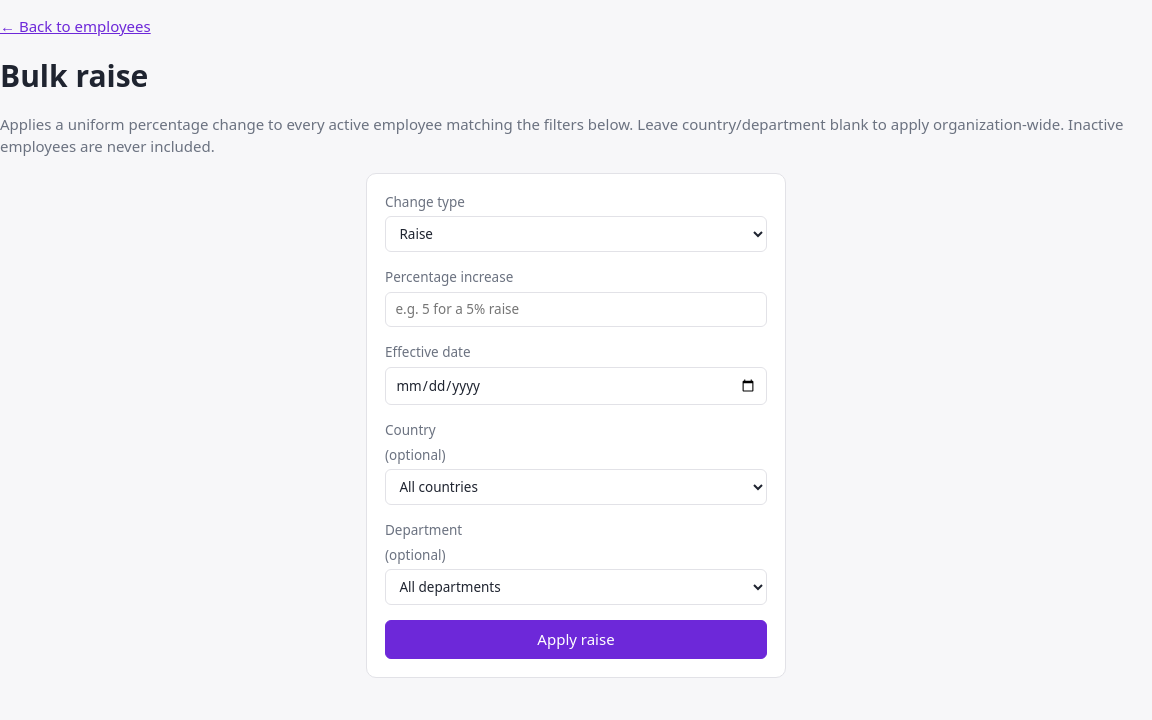
Test: BulkRaisePage › shows a confirm dialog naming the scope instead of applying immediately
Type "5" into the number field labelled "Percentage increase" at (576, 309), box [385,292,767,327]
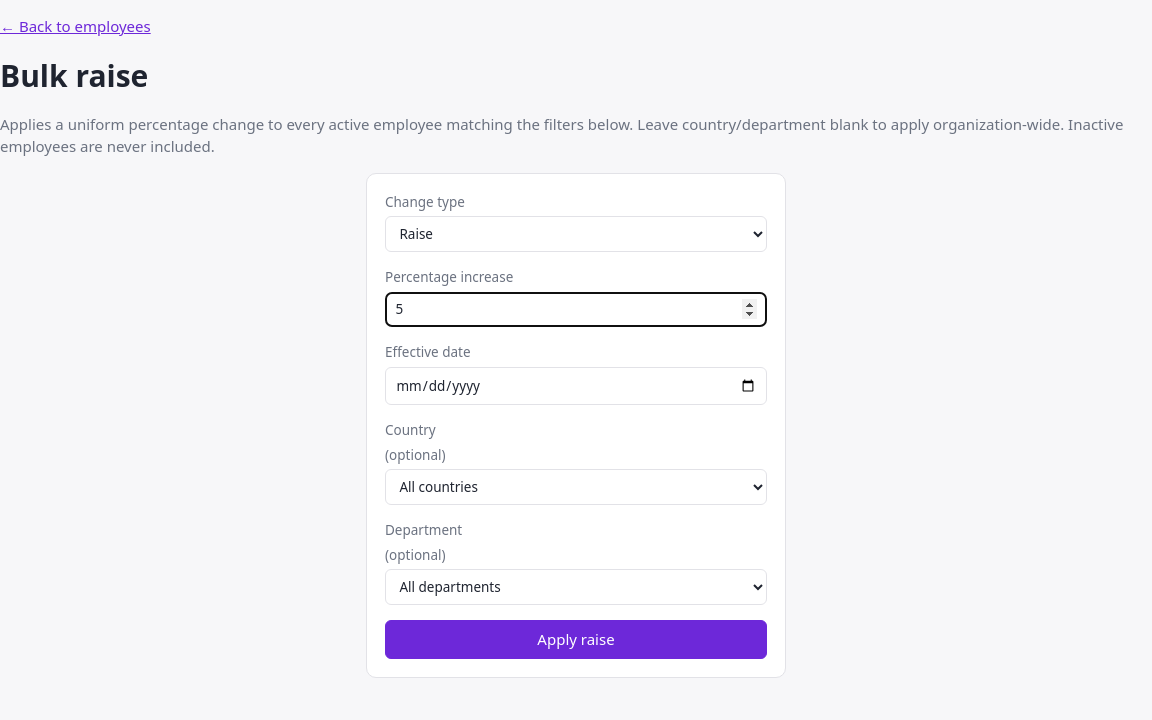
Type "2026-01-01" into the date field labelled "Effective date" at (576, 386), box [385,367,767,405]
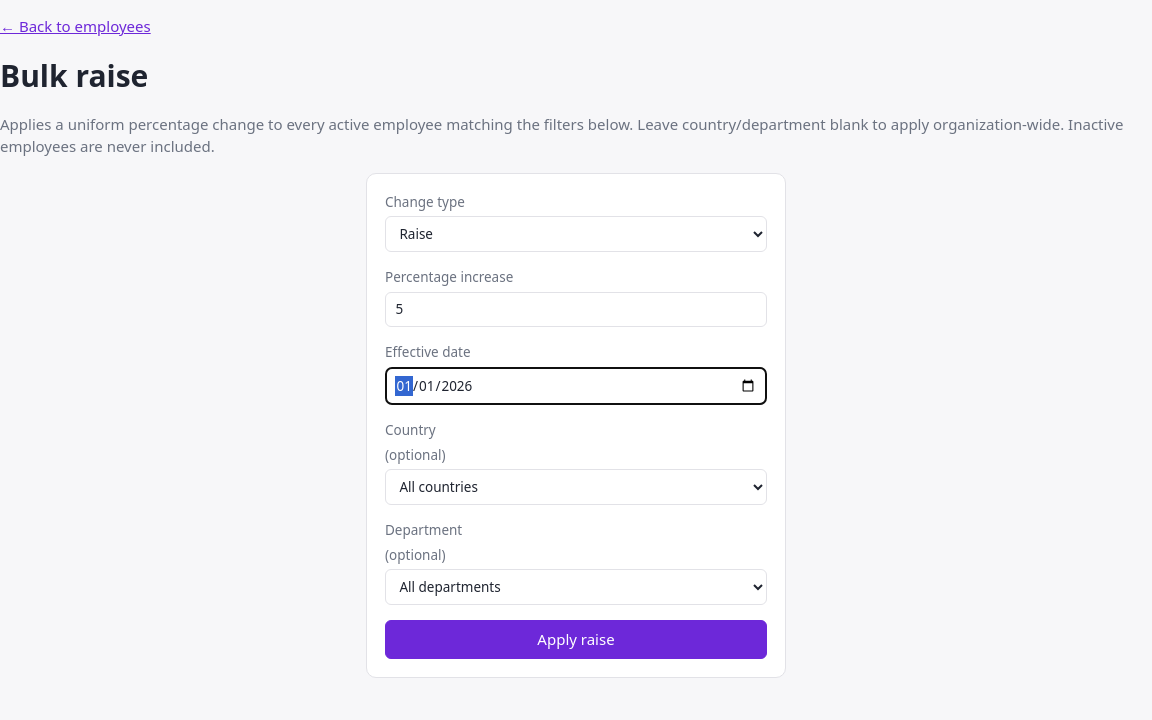
Click the button "Apply raise" at (576, 640), box [385,620,767,659]
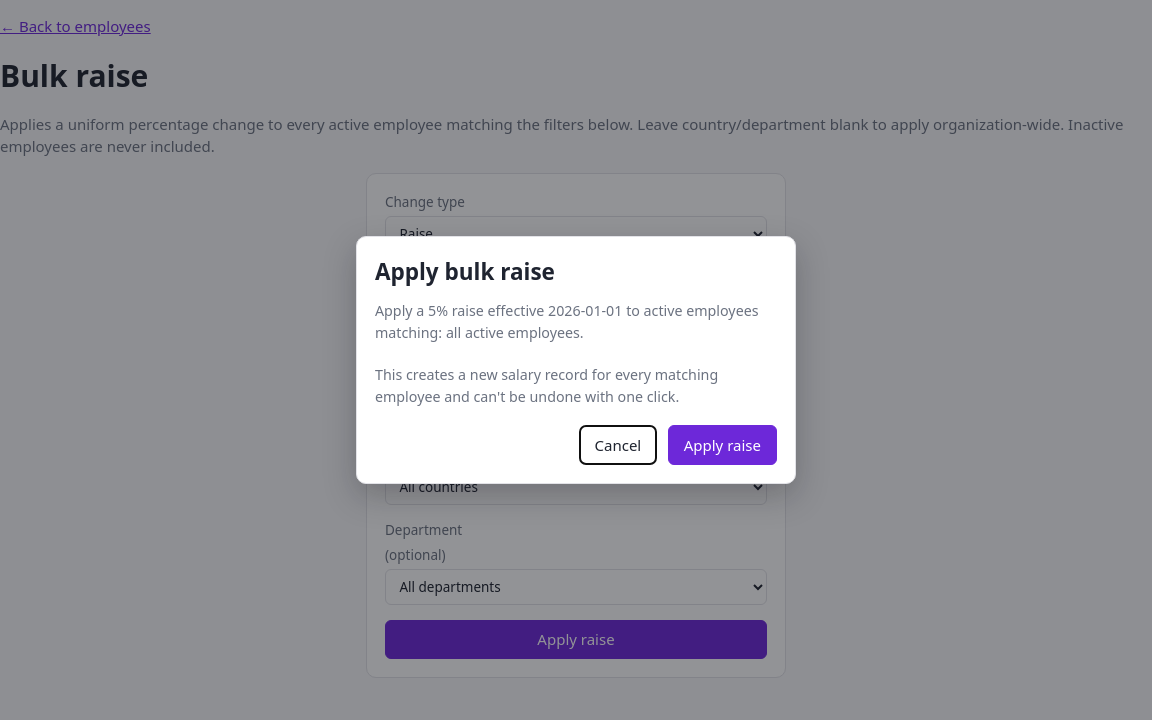
Check: the dialog shows "5% raise", box [375,301,758,406]
Check: the dialog shows "all active employees", box [375,301,758,406]
